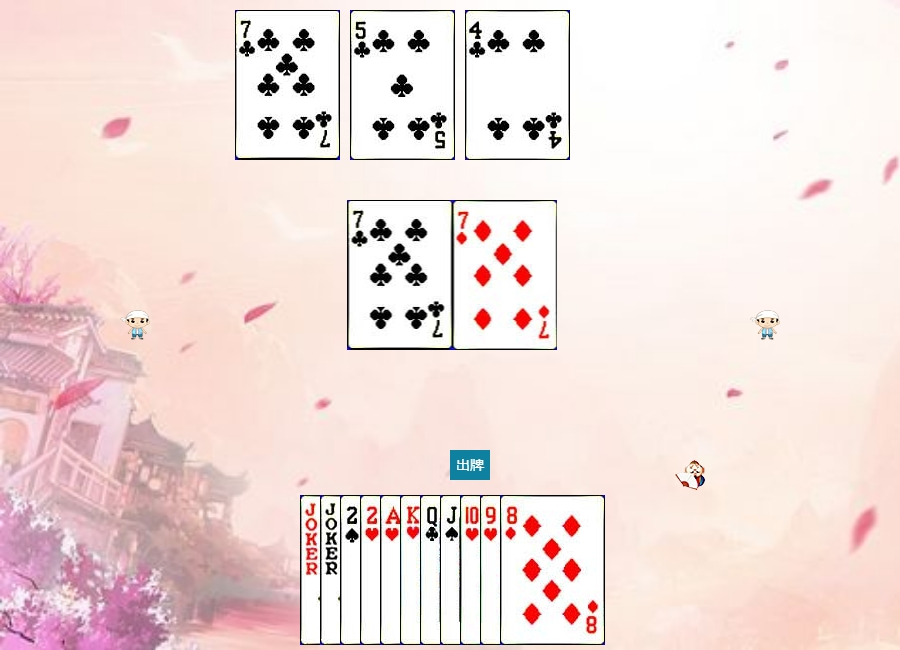10~3: (460, 495, 565, 645)
11~4: (440, 495, 545, 645)
12~2: (420, 495, 525, 645)
13~3: (400, 495, 505, 645)
14~3: (380, 495, 485, 645)
15~3: (360, 495, 465, 645)
15~4: (340, 495, 445, 645)
17~3: (320, 495, 425, 645)
18~4: (300, 495, 405, 645)
4~2: (465, 10, 570, 160)
5~2: (350, 10, 455, 160)
7~1: (453, 200, 558, 350)
7~2: (235, 10, 340, 160), (348, 200, 453, 350)
8~1: (500, 495, 605, 645)
9~3: (480, 495, 585, 645)
